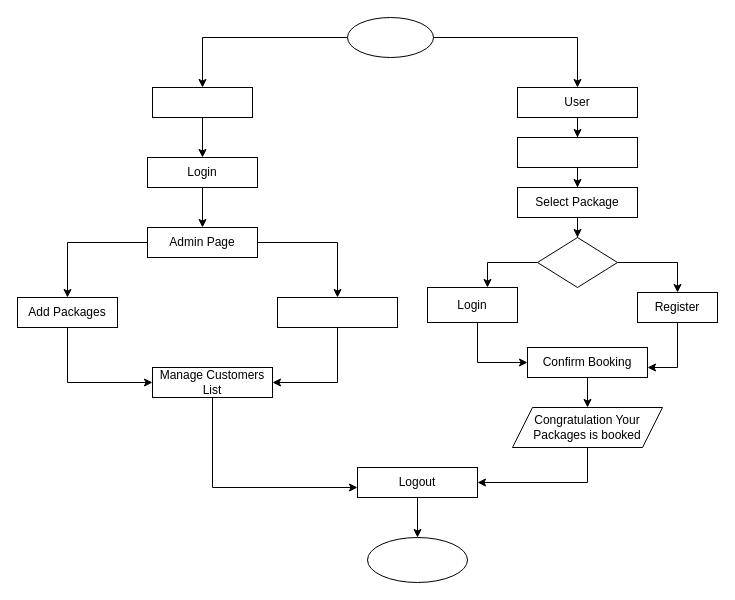
Some shapes in this 735 by 600 pixel diagram are drawn without their labels. The box of each missing label's shape, as (x1, y1, x2, y2) in pixels:
Admin: (152, 86, 252, 118)
Browse Venues: (516, 136, 638, 168)
end: (366, 536, 468, 582)
Register Customer: (536, 236, 618, 288)
Remove packages: (276, 296, 398, 328)
Start: (346, 16, 434, 58)
